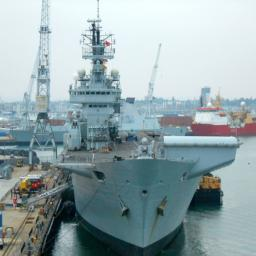Portanaves: (56, 2, 239, 250)
